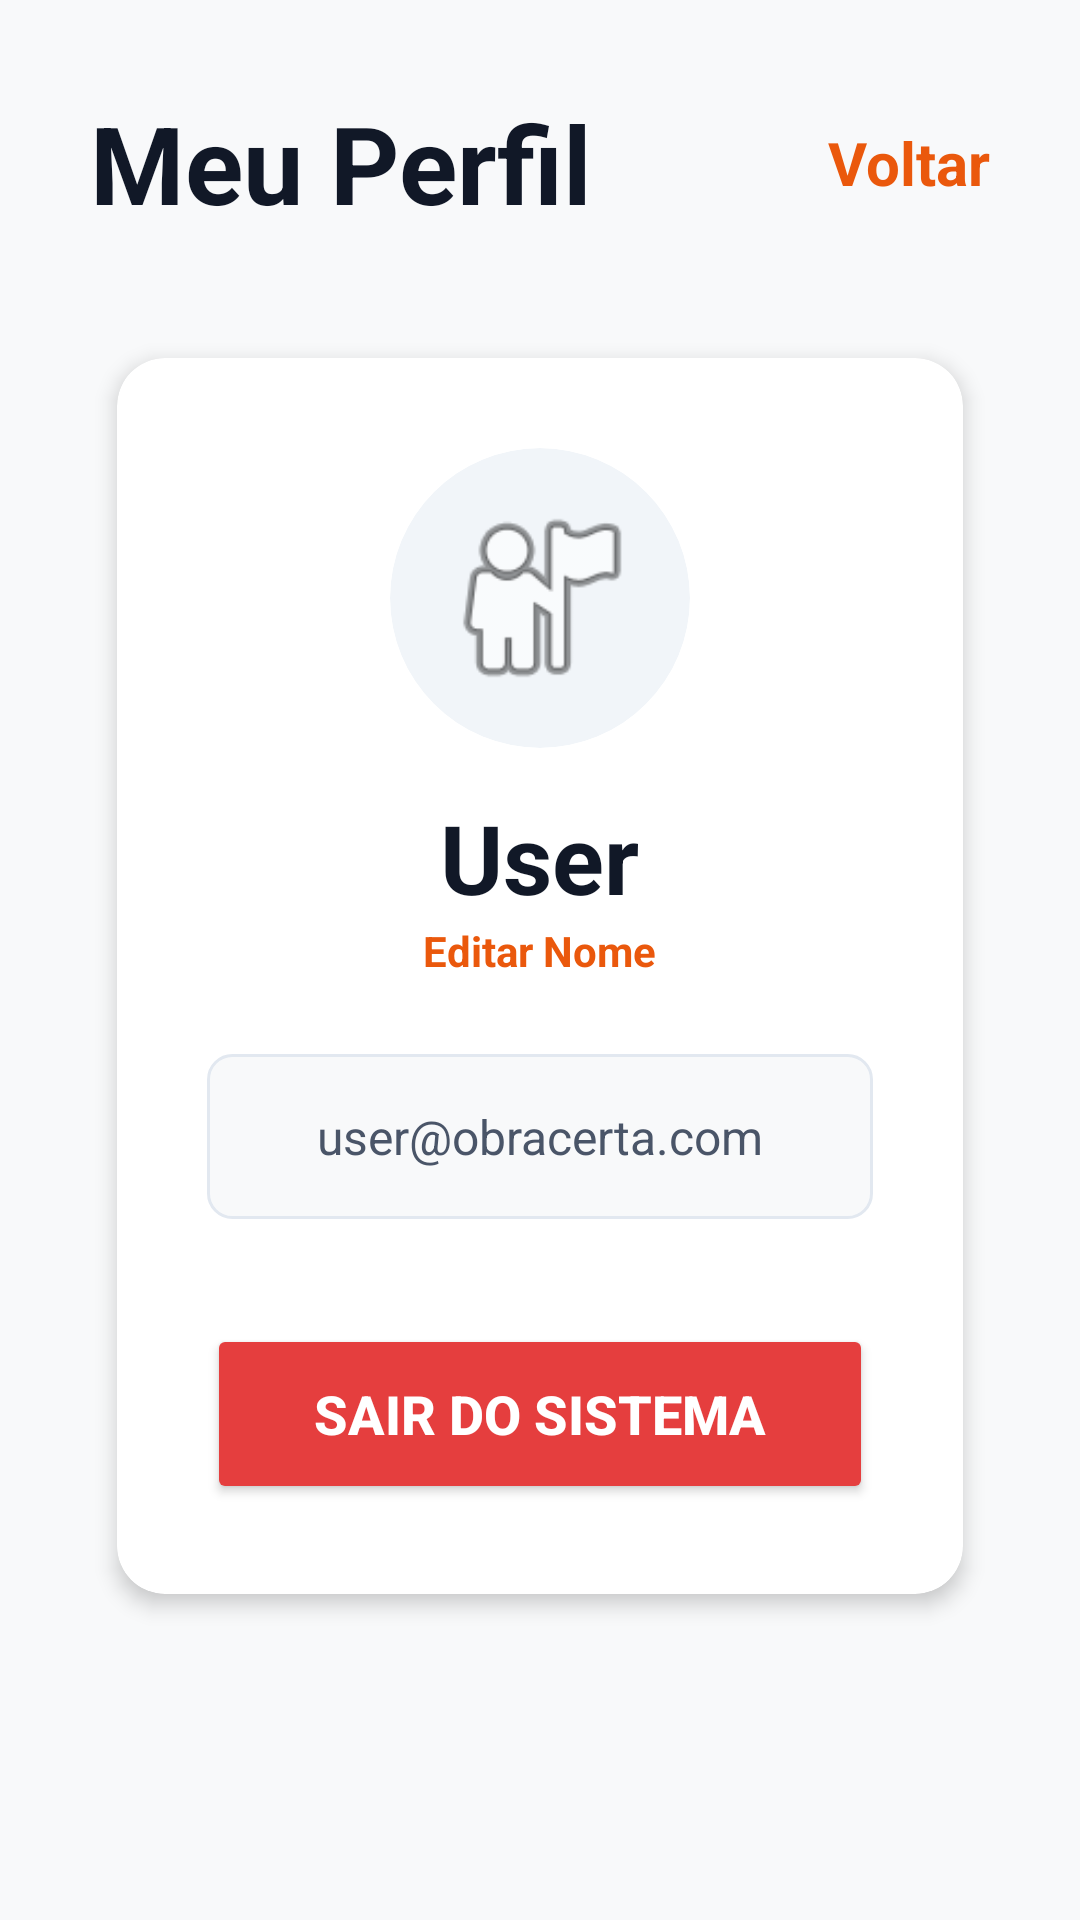

Icon click points for this 1080w x 1920h phone screenshot, format (x=x, y=y):
Avatar do Usuário: (x=542, y=598)
